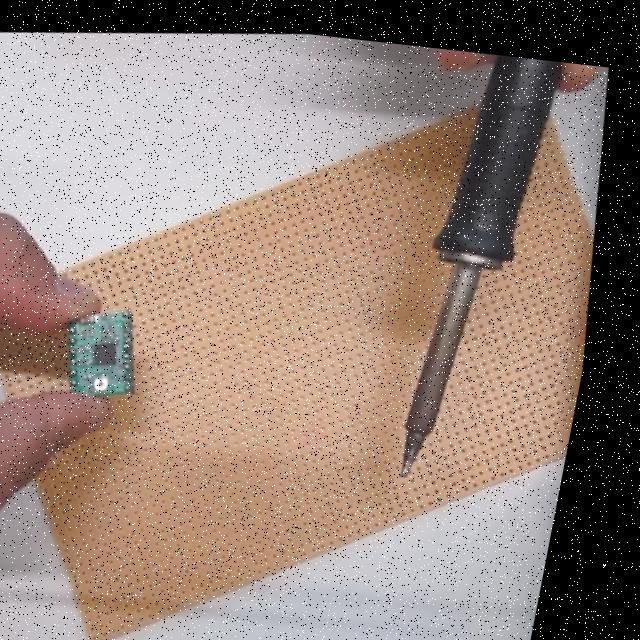Chip: (44, 297, 156, 412)
soldering_iron: (348, 48, 599, 486)
